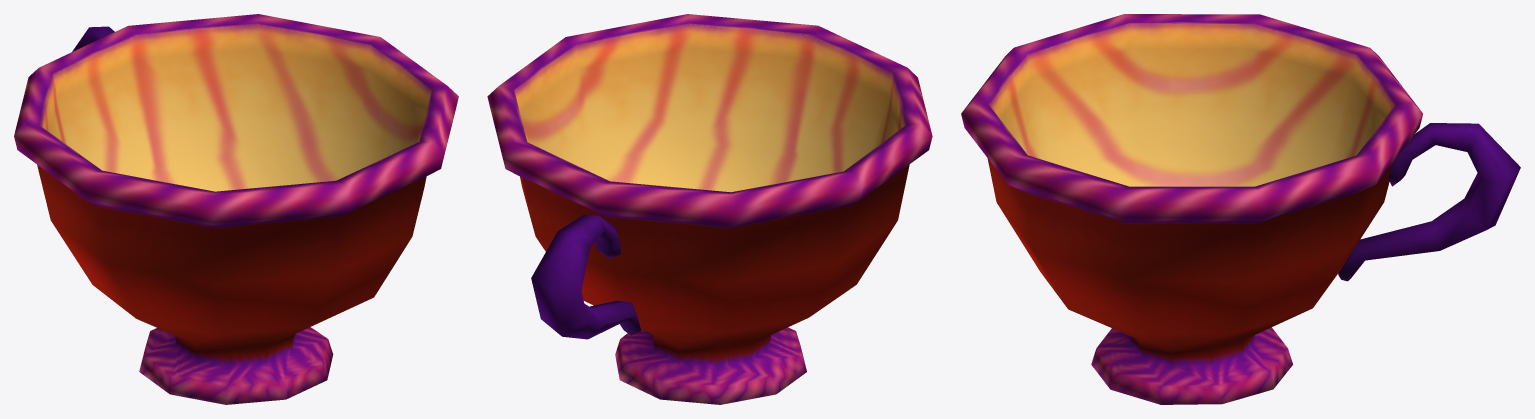
File: Teacup_MARCH_HARE.dae
3 views of the same model, side by side, from view 1: azimuth 30°, elevation 25°; view 2: azimuth 150°, elevation 25°; view 3: azimuth 270°, elevation 25° (orthographic).
Visible parts, largest first — view 1: mesh0; view 2: mesh0; view 3: mesh0.
Part boxes in pixels (x1,y1,x2,y2): mesh0: (14, 14, 458, 404); mesh0: (487, 14, 932, 404); mesh0: (961, 14, 1520, 404).
Size of the model in its own units: 0.2047 by 0.1379 by 0.2606.
